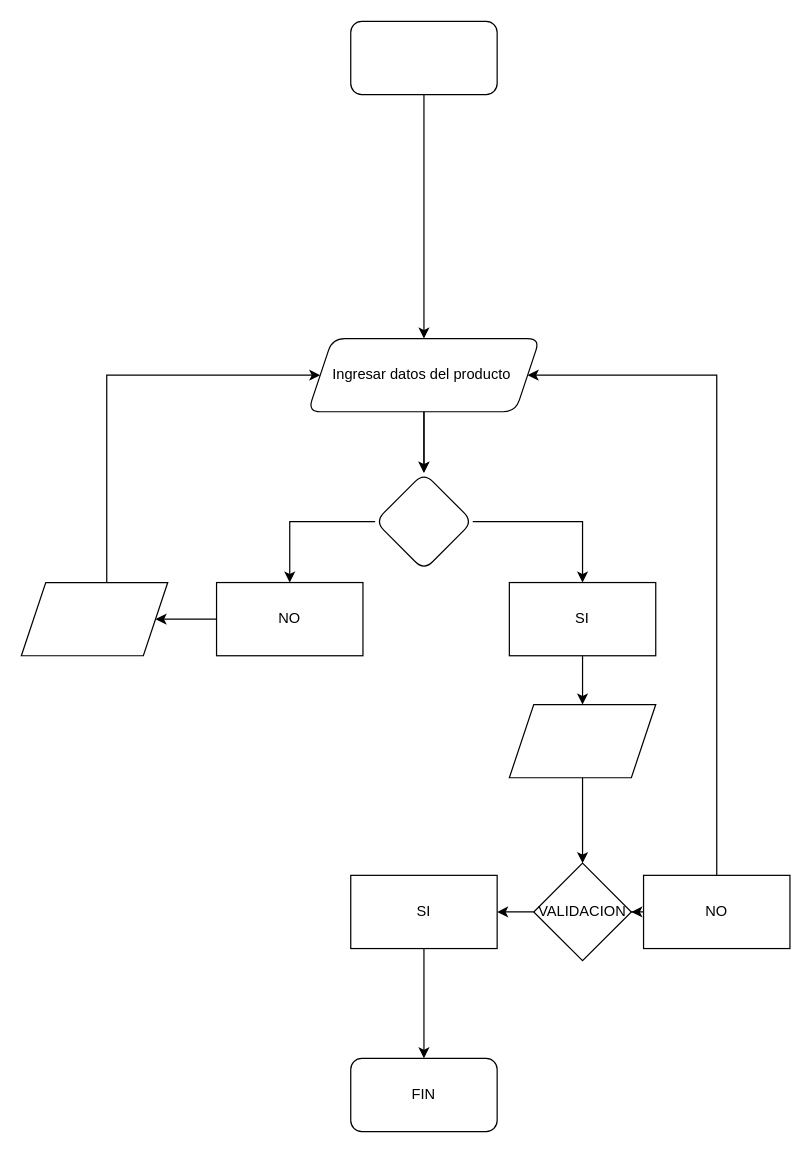
This 811x1153 diagram has some shape labels left out. The box of each missing label's shape, as (x1, y1, x2, y2) in pixels:
Guardar registro: (508, 703, 656, 778)
Inicio: (350, 20, 497, 95)
Mostrar error: (20, 581, 168, 656)
VALIDAR DATOS: (374, 472, 473, 570)
